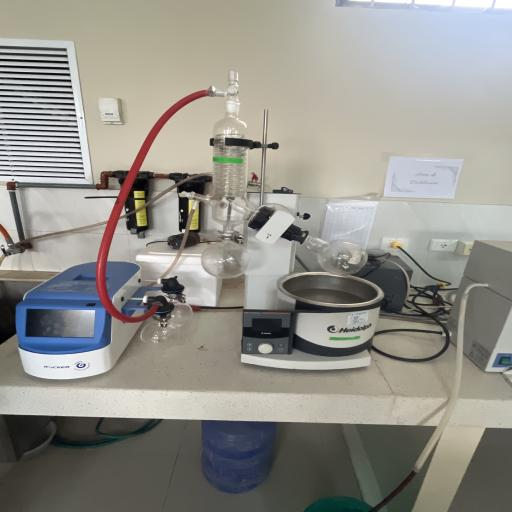Sistema_Rotaevaporacion: (14, 58, 385, 382)
